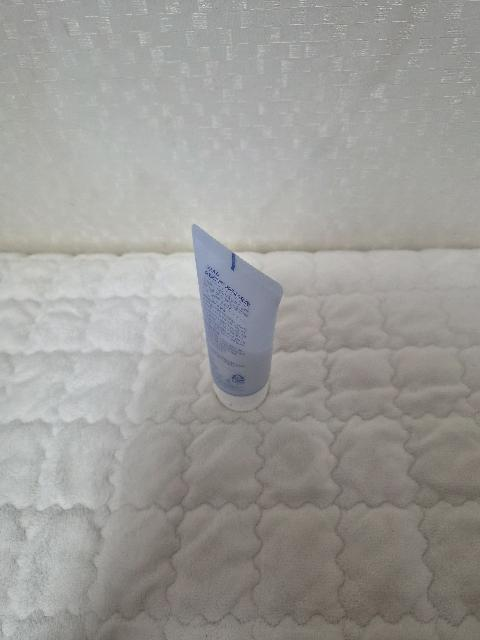handcream: (191, 224, 283, 411)
